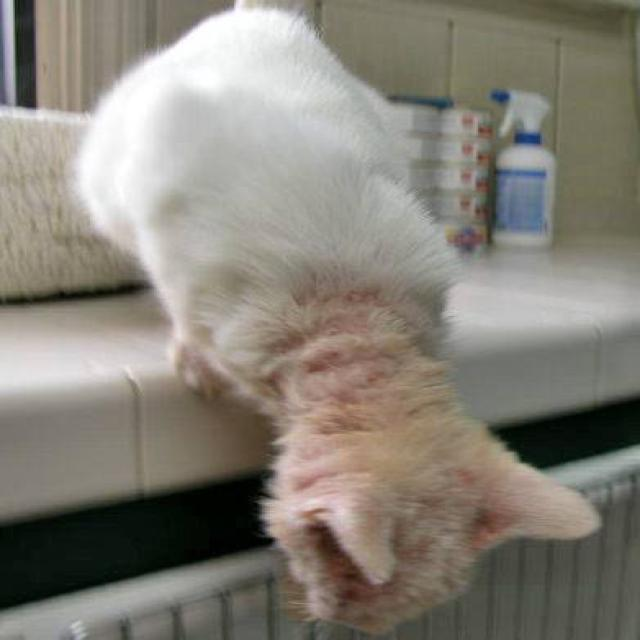cat: (71, 0, 602, 637)
